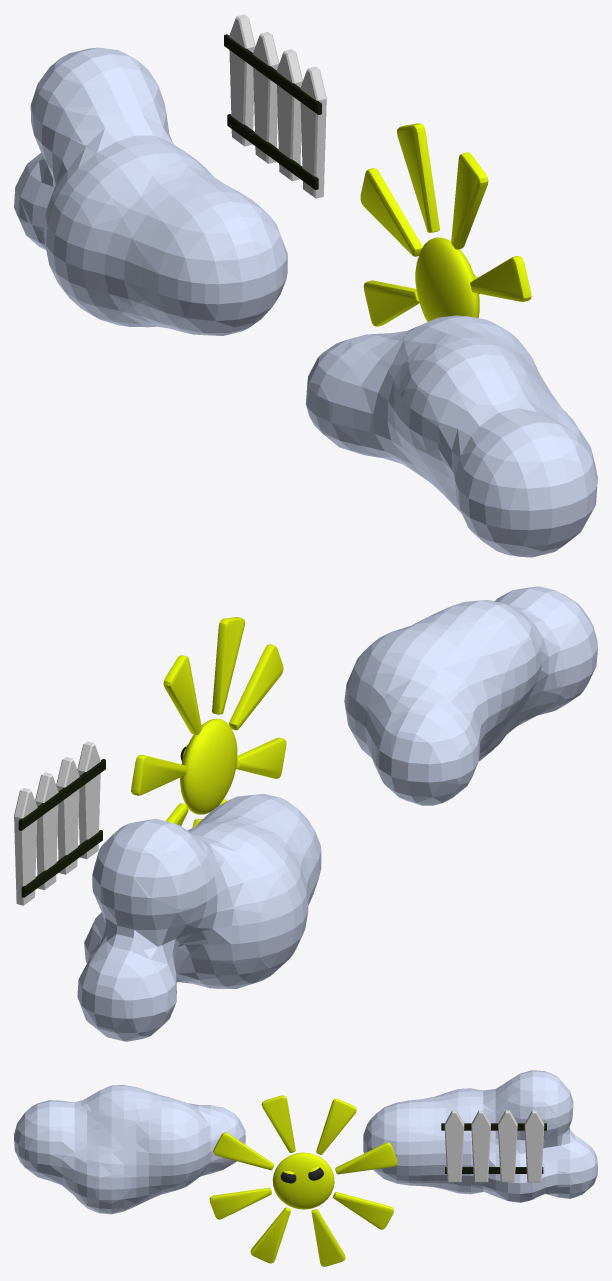
3 renders of one model, top to bottom at view 1: azimuth 30°, elevation 25°; view 2: azimuth 150°, elevation 25°; view 3: azimuth 270°, elevation 25°, orthographic. The views are drawn at different scales.
Visible parts, largest first — view 1: Mball.002, Mball.001, Plane, Plane.001, Sphere; view 2: Mball.002, Mball.001, Plane, Plane.001, Sphere; view 3: Mball.001, Mball.002, Plane.001, Plane, Sphere, Sphere.001.
Part boxes in pixels (x1,y1,x2,y2): Mball.002: [14, 47, 287, 335]; Mball.001: [305, 315, 597, 557]; Plane: [224, 14, 326, 198]; Plane.001: [360, 123, 531, 326]; Sphere: [415, 237, 479, 321]; Mball.002: [77, 793, 321, 1041]; Mball.001: [344, 586, 597, 805]; Plane: [14, 741, 105, 905]; Plane.001: [131, 617, 286, 827]; Sphere: [180, 718, 237, 814]; Mball.001: [14, 1085, 245, 1214]; Mball.002: [363, 1070, 597, 1202]; Plane.001: [209, 1095, 397, 1266]; Plane: [441, 1110, 546, 1182]; Sphere: [272, 1152, 334, 1209]; Sphere.001: [280, 1167, 324, 1183].
Bounding box in the file's own units: 554 × 606 × 1886.
